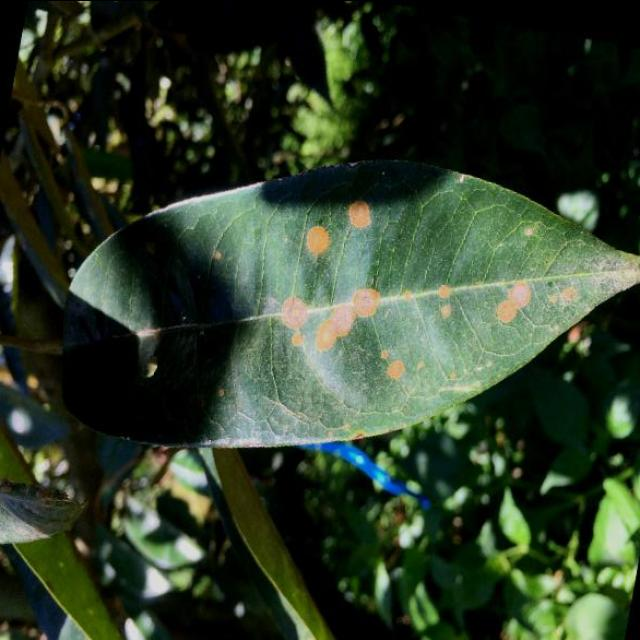Algal Leaf Spot: (19, 85, 640, 542)
